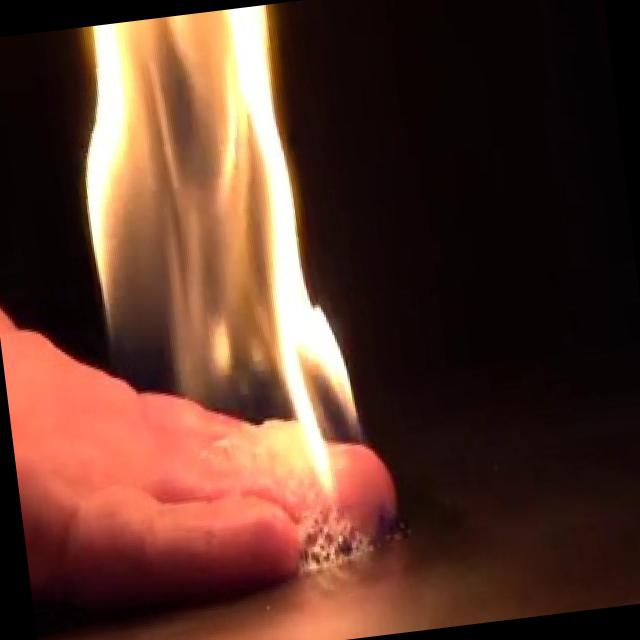Fire: (51, 0, 366, 533)
